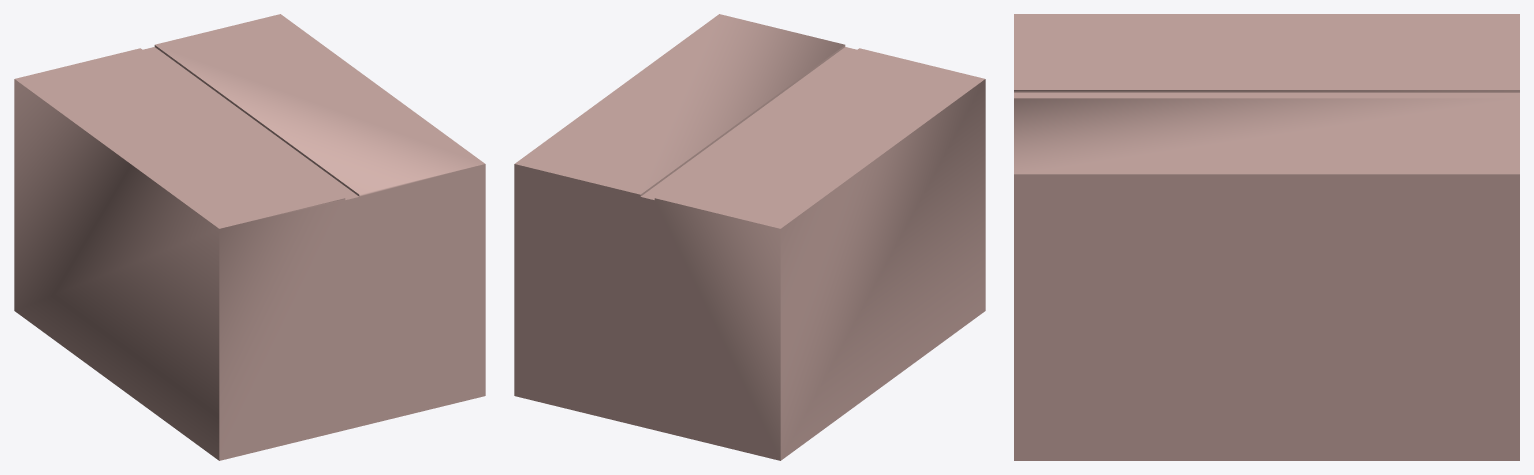
Rendered from Box_Medium.fbx.
3 views of the same model, side by side, from view 1: azimuth 30°, elevation 25°; view 2: azimuth 150°, elevation 25°; view 3: azimuth 270°, elevation 25° (orthographic). The views are drawn at different scales.
Parts seen in each view (by area): view 1: Box_S; view 2: Box_S; view 3: Box_S.
Part boxes in pixels (<box>): Box_S: <box>14,14,485,460</box>; Box_S: <box>514,14,985,460</box>; Box_S: <box>1014,14,1519,460</box>.
Size of the model in its own units: 24 by 20 by 32.
